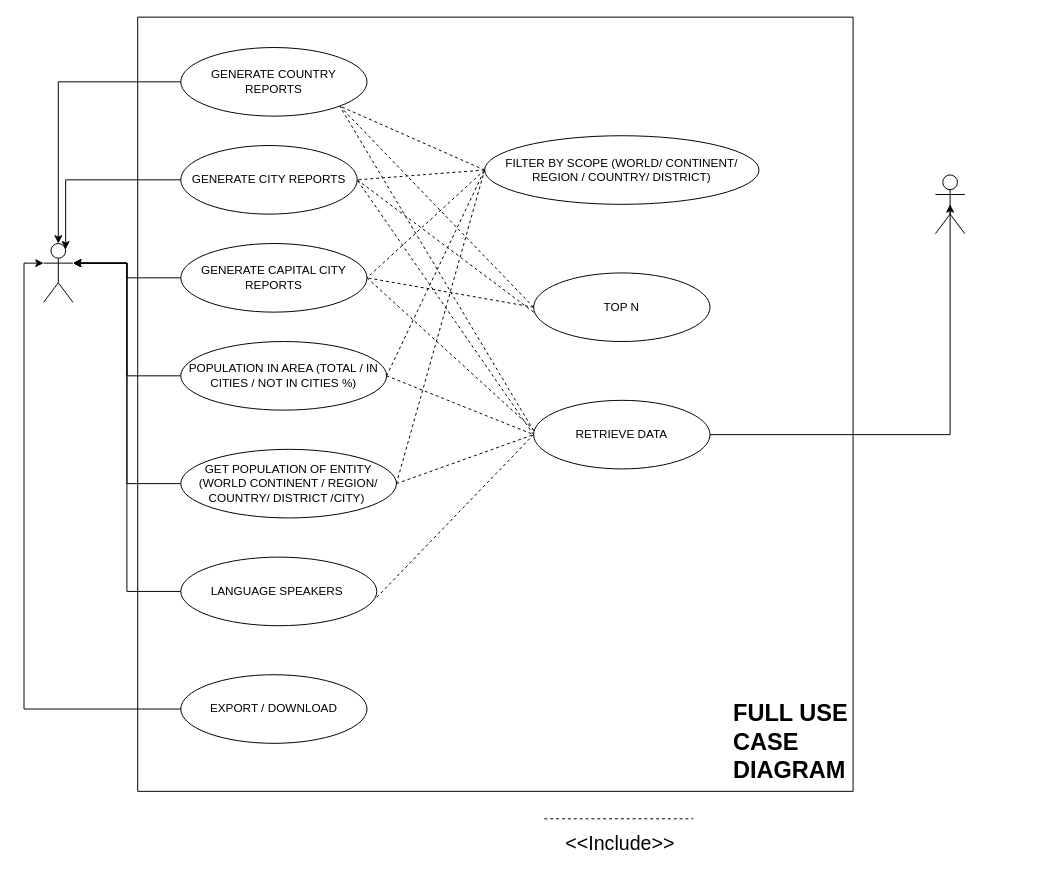
This 1053x877 diagram has some shape labels left out. The centre of each missing label's shape, as x and y in pixels:
ANALYST: the point at 58,272
POPULATION SQL DATA BASE: the point at 949,204
